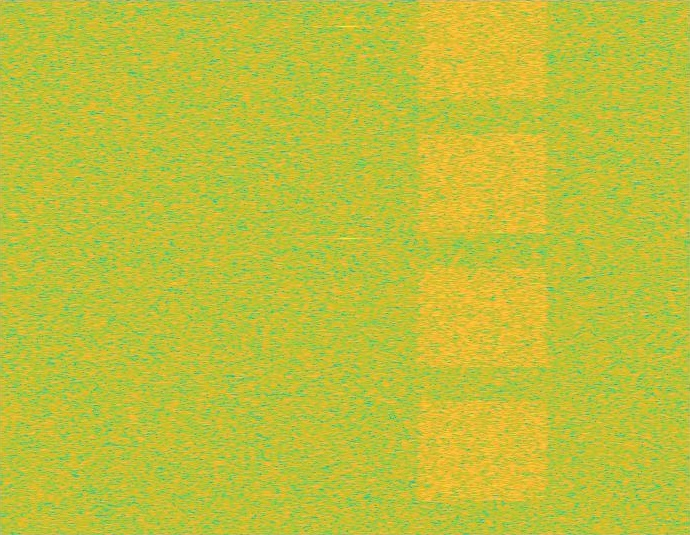5G: (414, 0, 552, 534)
Radar: (341, 0, 355, 534)
